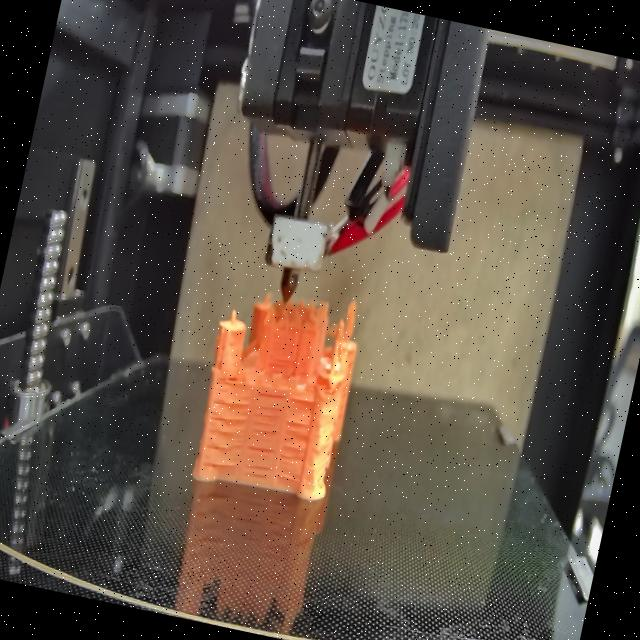cracks: (198, 392, 248, 470), (274, 417, 314, 482), (249, 390, 286, 438), (240, 438, 276, 478), (289, 386, 315, 412), (266, 351, 296, 368), (219, 368, 242, 387)
